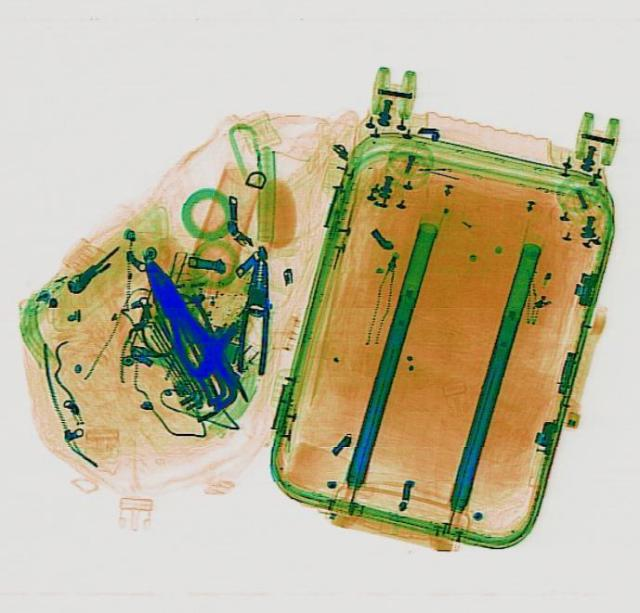Pliers: (125, 247, 242, 404), (234, 257, 274, 374)
